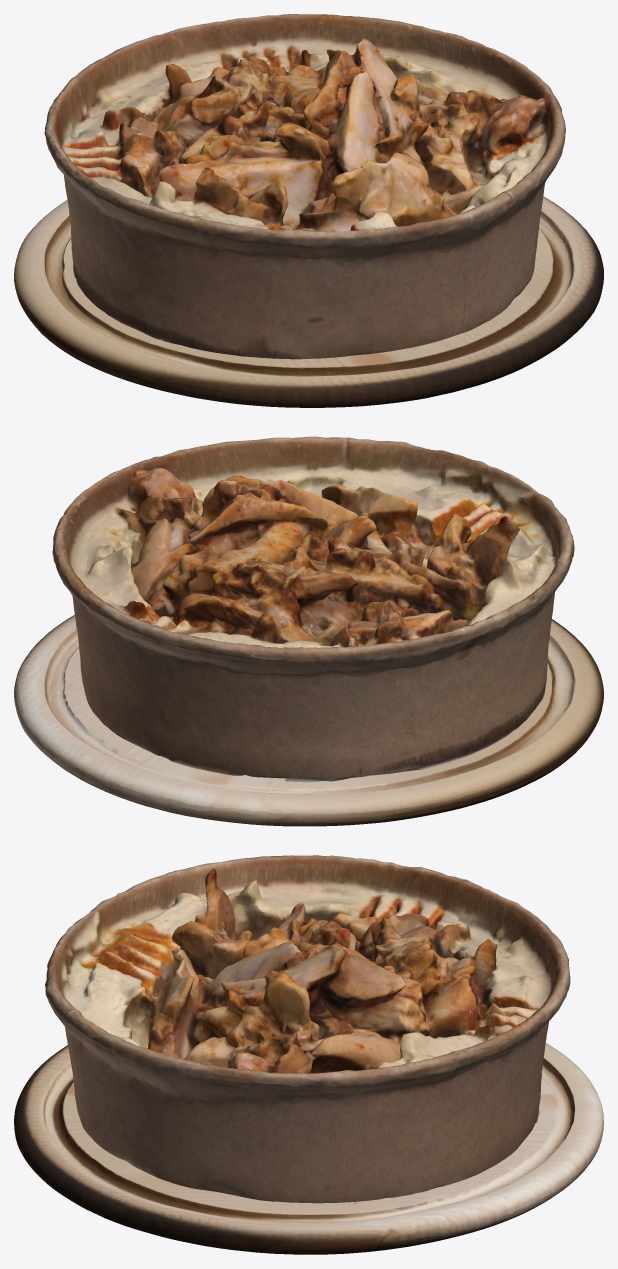
Rendered from Humos.chicken.shawerma.roshan.glb.
3 views of the same model, one above another, from view 1: azimuth 30°, elevation 25°; view 2: azimuth 150°, elevation 25°; view 3: azimuth 270°, elevation 25° (orthographic).
Visible parts, largest first — view 1: /Root/Scenes/Scene/Object_37/Object_38/Submesh_0, /Root/Scenes/Scene/Object_37/Object_41/Submesh_0; view 2: /Root/Scenes/Scene/Object_37/Object_38/Submesh_0, /Root/Scenes/Scene/Object_37/Object_41/Submesh_0; view 3: /Root/Scenes/Scene/Object_37/Object_38/Submesh_0, /Root/Scenes/Scene/Object_37/Object_41/Submesh_0.
Boxes of the visible parts, x1,y1,x2,y2 form: /Root/Scenes/Scene/Object_37/Object_38/Submesh_0: [44, 14, 565, 359]; /Root/Scenes/Scene/Object_37/Object_41/Submesh_0: [14, 196, 603, 407]; /Root/Scenes/Scene/Object_37/Object_38/Submesh_0: [52, 436, 574, 782]; /Root/Scenes/Scene/Object_37/Object_41/Submesh_0: [14, 615, 603, 826]; /Root/Scenes/Scene/Object_37/Object_38/Submesh_0: [45, 855, 570, 1203]; /Root/Scenes/Scene/Object_37/Object_41/Submesh_0: [14, 1043, 603, 1254].
Size of the model in its own units: 0.194 by 0.0803 by 0.194.
2 materials, 2 textured.
